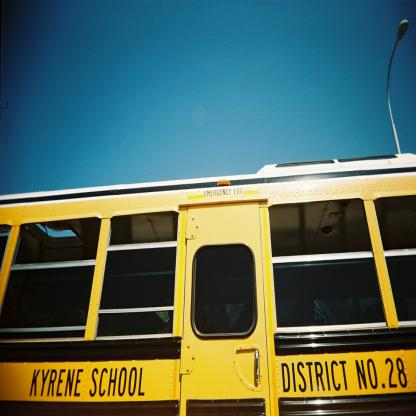Bus: (0, 152, 416, 416)
